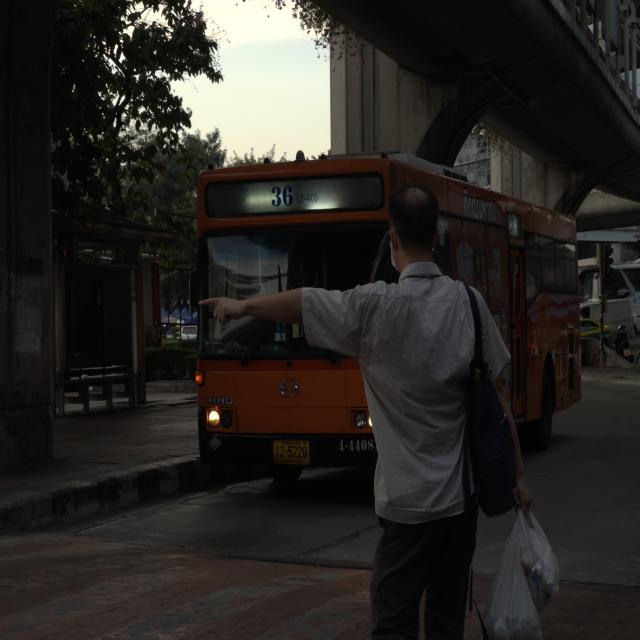BMTA-bus: (183, 136, 584, 468)
Bus-Line-Number: (270, 177, 320, 210)
